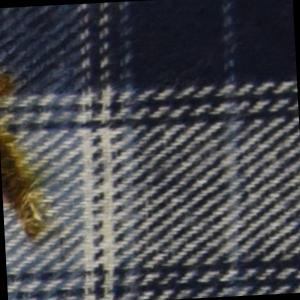Damage: (1, 138, 42, 243)
Oil Stain: (1, 116, 50, 248), (1, 69, 21, 116)
